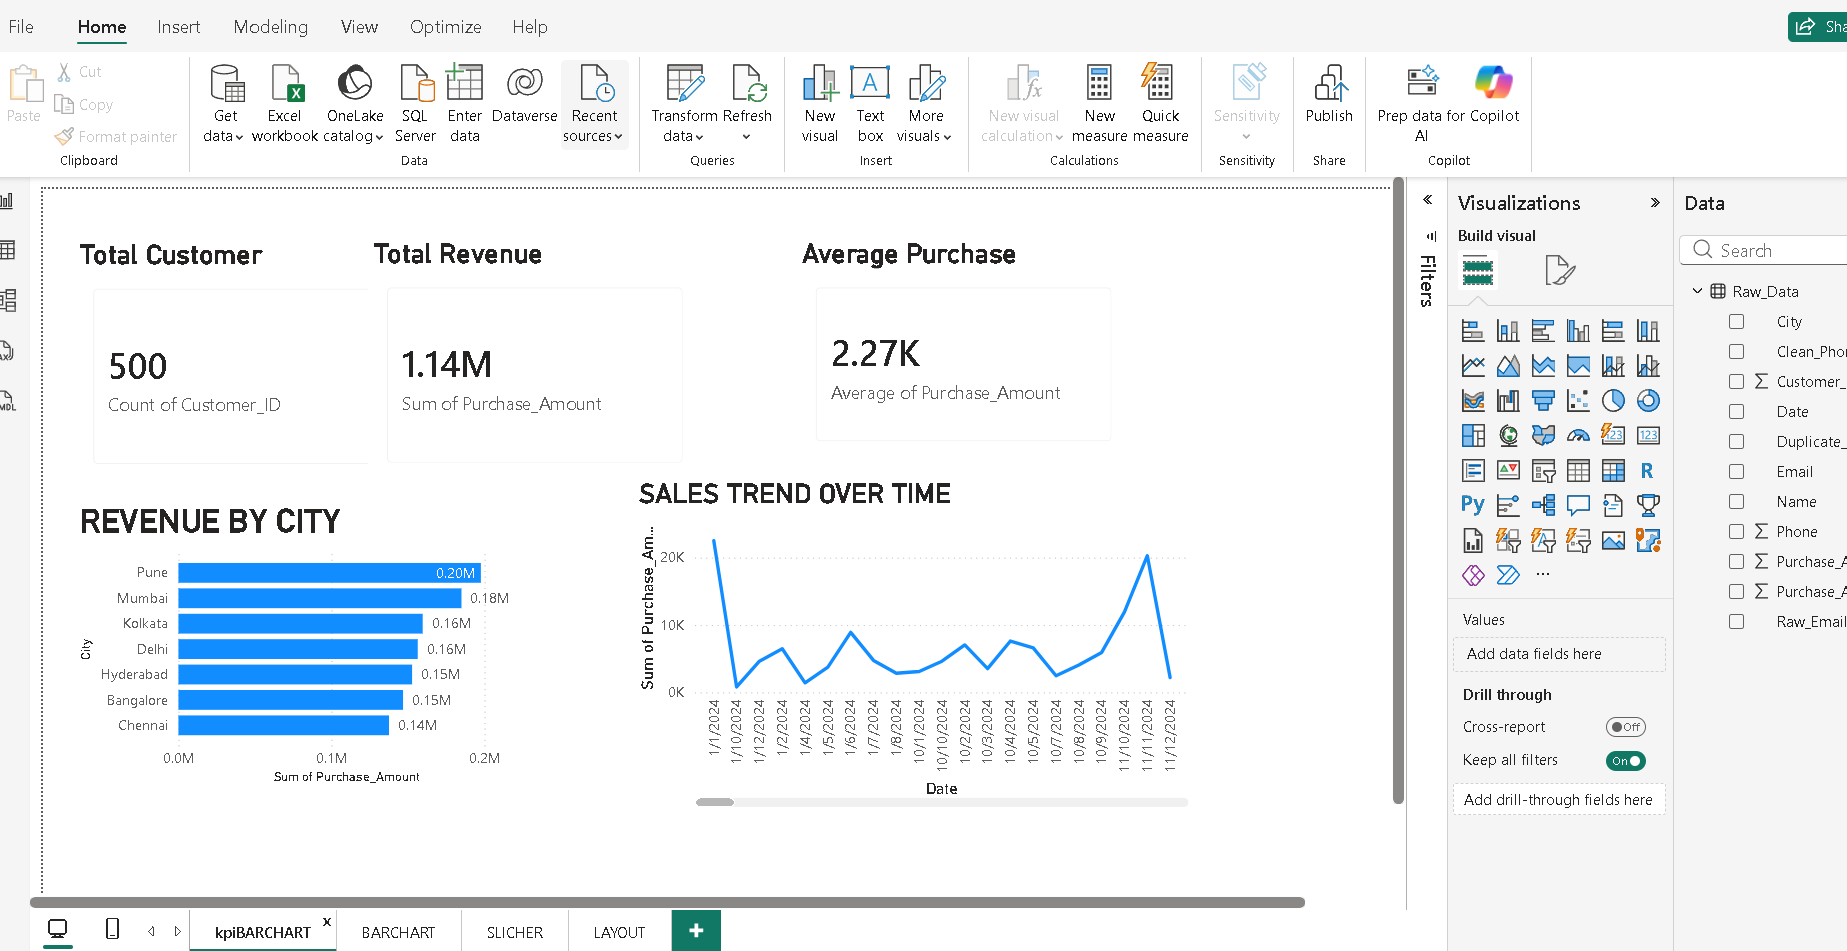

The dashboard page shown, as its layout file describes it:
{"tool":"powerbi","page":{"name":"kpiBARCHART","canvas":[1280,720],"ordinal":0},"visuals":[{"type":"cardVisual","title":"Total Customer","fields":{"Data":["CountNonNull(Raw_Data.Customer_ID)"]},"box":[27.4,43.9,297.8,218.2],"z":0},{"type":"cardVisual","title":"Total Revenue","fields":{"Data":["Sum(Raw_Data.Purchase_Amount)"]},"box":[288.6,43.5,297.3,217.7],"z":1},{"type":"cardVisual","title":"Average Purchase","fields":{"Data":["Avg(Raw_Data.Purchase_Amount)"]},"box":[670.5,43.5,297.3,199],"z":2},{"type":"clusteredBarChart","title":"REVENUE BY CITY","fields":{"Category":["Raw_Data.City"],"Y":["Sum(Raw_Data.Purchase_Amount)"]},"box":[27.4,277.4,410.5,256.3],"z":3},{"type":"lineChart","title":"SALES TREND OVER TIME","fields":{"Category":["Raw_Data.Date"],"Y":["Sum(Raw_Data.Purchase_Amount)"]},"box":[524.4,256.7,498.9,297.8],"z":4}]}

Visuals, with their boxes on the page's 1280x720 design canvas (x1, y1, x2, y2). These are canvas units, not pixel positions in the 1847x951 screenshot, which may show the page scaled, cropped or inside an application window:
"Total Customer" cardVisual: rect(27, 44, 325, 262)
"Total Revenue" cardVisual: rect(289, 44, 586, 261)
"Average Purchase" cardVisual: rect(670, 44, 968, 242)
"REVENUE BY CITY" clusteredBarChart: rect(27, 277, 438, 534)
"SALES TREND OVER TIME" lineChart: rect(524, 257, 1023, 554)
